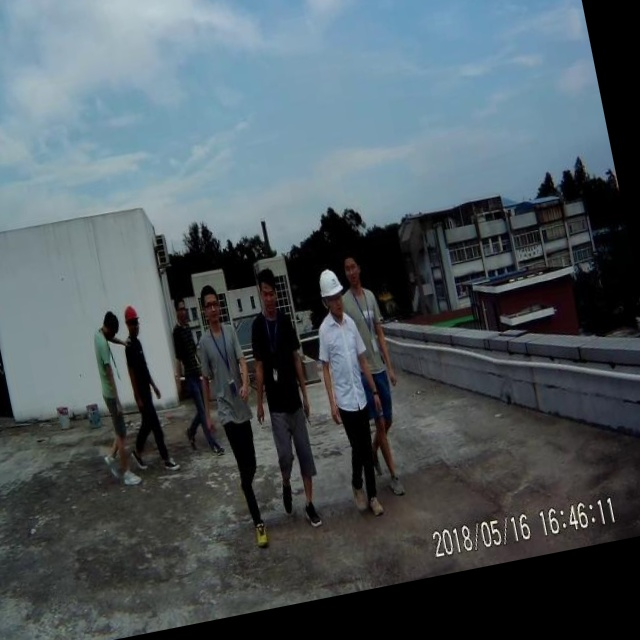Con_Casco: (315, 267, 348, 318)
Sin_Casco_Mascarrilla: (253, 265, 283, 318), (199, 283, 225, 331)
Sin_Chaleco: (247, 310, 312, 423), (314, 311, 379, 421), (195, 322, 254, 426)
